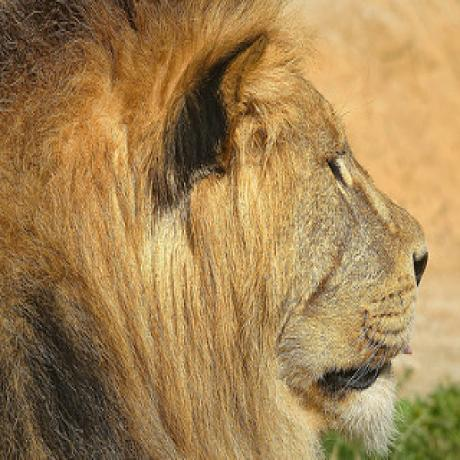Lion: (0, 0, 430, 460)
